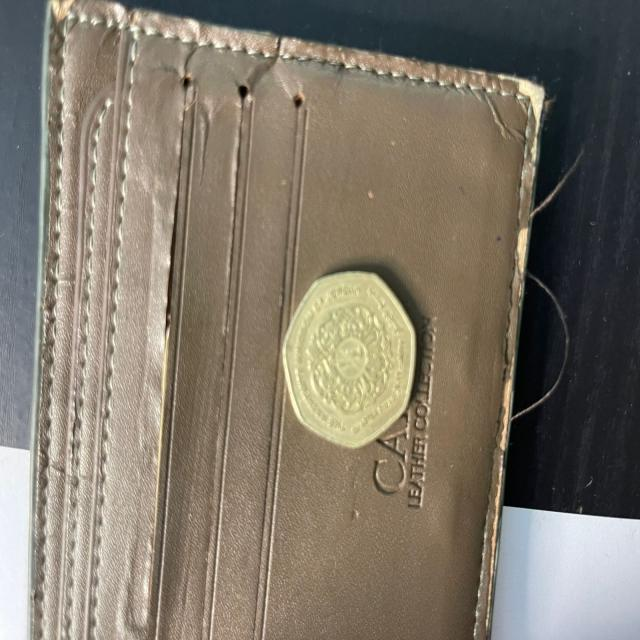25-coins: (281, 270, 417, 450)
